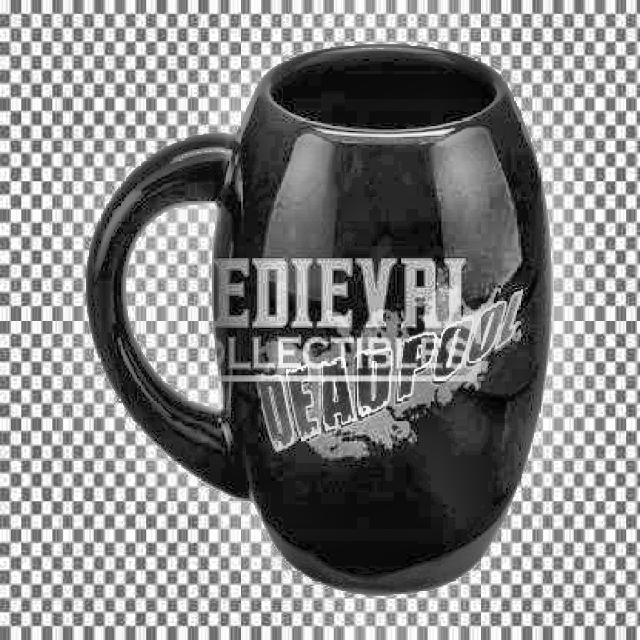Mug: (85, 42, 552, 596)
